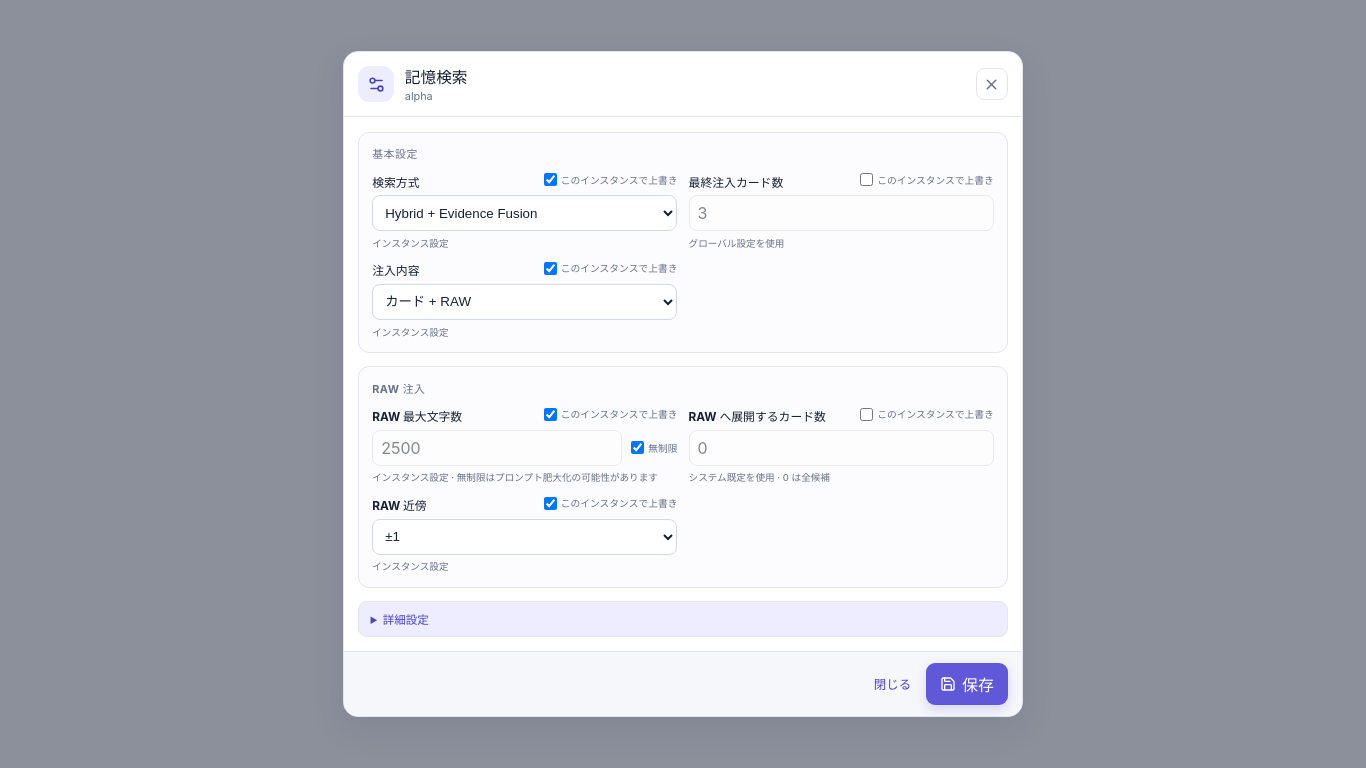
Test case: MemoryRetrievalSettingsDialog › does not show a success state when the backend rejects the save
expect the dropdown labelled "検索方式" is shown: met, box [372,195,677,231]
Click the button "保存": [967, 684] box [926,663,1008,705]
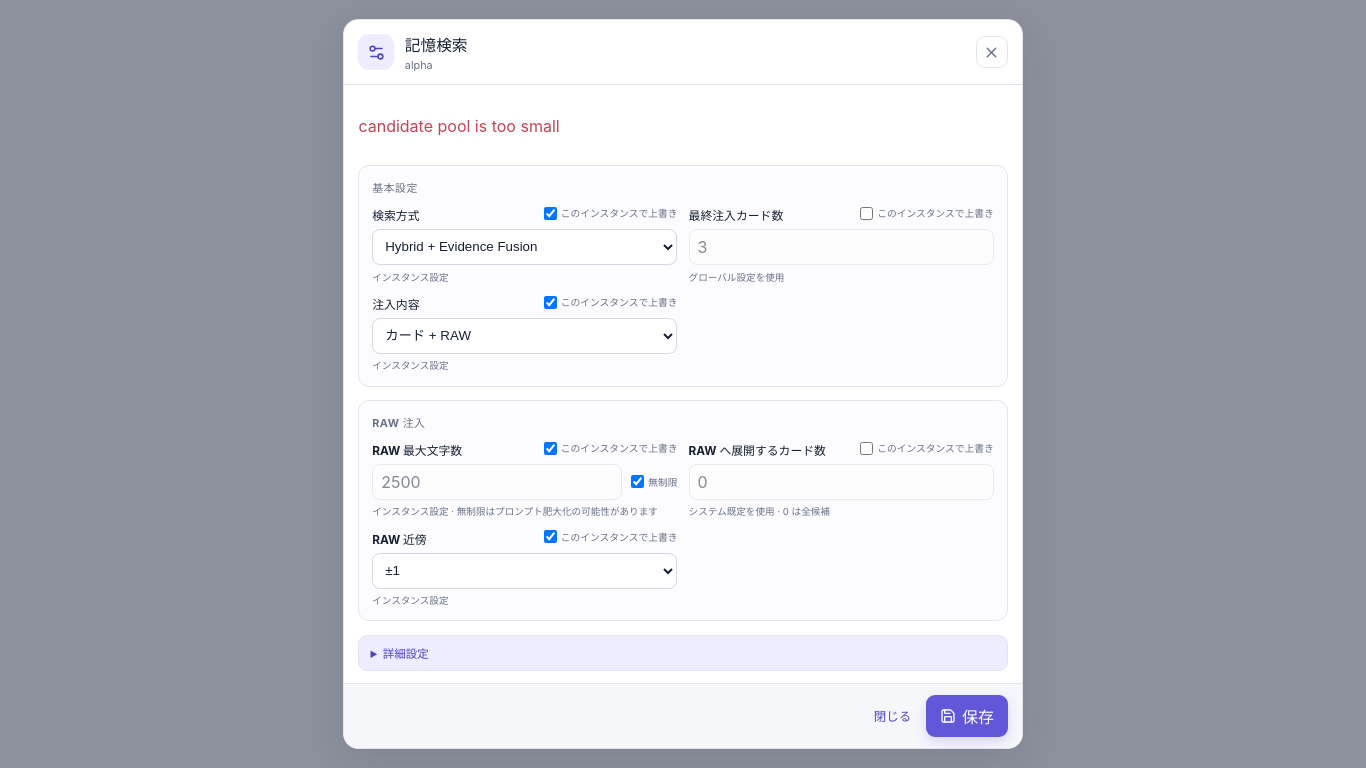
expect the message reads "candidate pool is too small": met, box [358,116,560,136]
